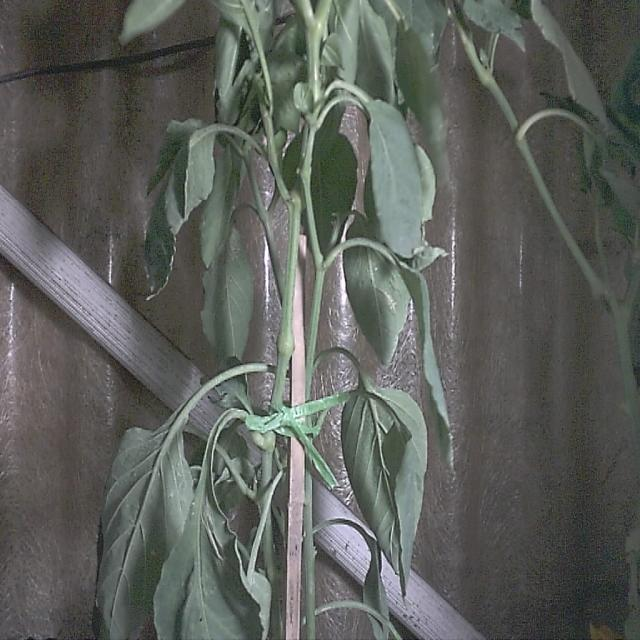Leaf: (97, 410, 193, 638), (400, 264, 453, 469), (531, 0, 609, 128), (367, 100, 422, 257), (344, 247, 409, 364), (202, 227, 253, 361), (464, 0, 524, 50), (120, 0, 186, 44)
